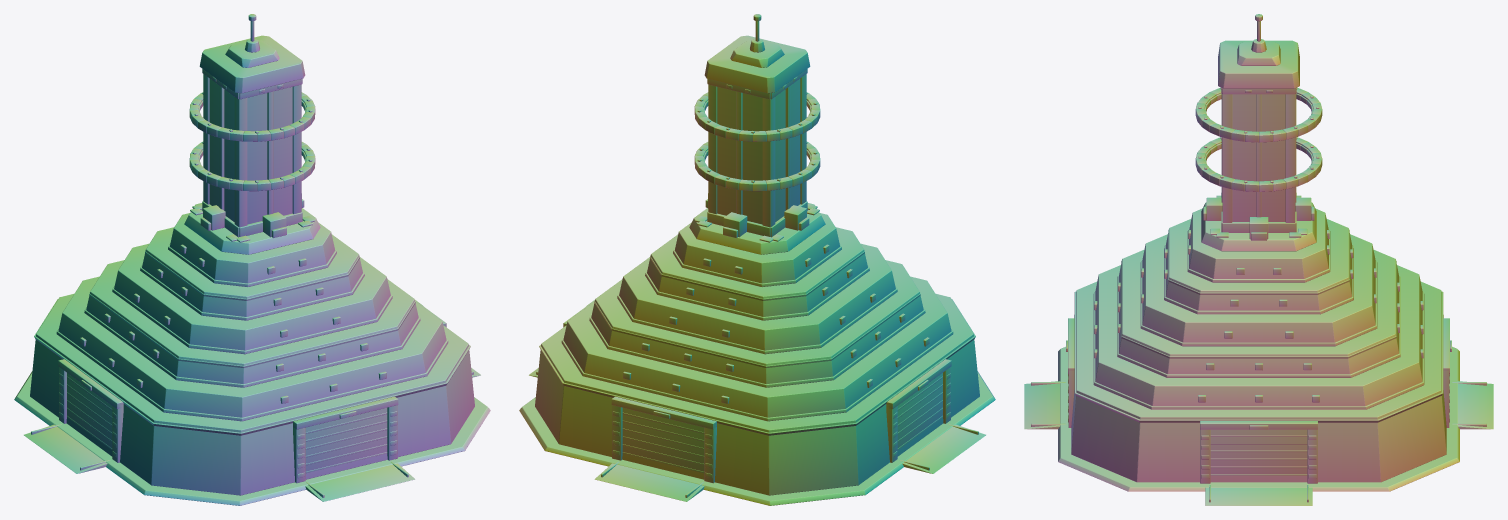
Rendered from hq_t4_rig.glb.
3 renders of one model, left to right at view 1: azimuth 30°, elevation 25°; view 2: azimuth 150°, elevation 25°; view 3: azimuth 270°, elevation 25°, orthographic.
Parts seen in each view (by area): view 1: body, spin_ring_0, spin_ring_1, door_0, door_2; view 2: body, spin_ring_0, spin_ring_1, door_3, door_2; view 3: body, spin_ring_1, spin_ring_0, door_1.
Part boxes in pixels (left/top/right/bottom): body: left=14, top=14, right=490, bottom=505; spin_ring_0: left=189, top=141, right=315, bottom=191; spin_ring_1: left=189, top=92, right=315, bottom=141; door_0: left=305, top=412, right=387, bottom=473; door_2: left=67, top=376, right=112, bottom=449; body: left=519, top=14, right=995, bottom=505; spin_ring_0: left=694, top=141, right=820, bottom=191; spin_ring_1: left=694, top=92, right=820, bottom=141; door_3: left=622, top=412, right=704, bottom=473; door_2: left=897, top=376, right=942, bottom=449; body: left=1024, top=14, right=1493, bottom=505; spin_ring_1: left=1195, top=87, right=1322, bottom=142; spin_ring_0: left=1195, top=137, right=1322, bottom=191; door_1: left=1210, top=435, right=1307, bottom=475.
Bounding box in the file's own units: 70 × 64.4 × 70.
